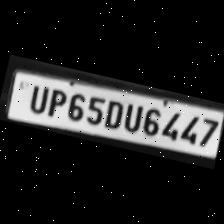4: (174, 110, 202, 146), (158, 107, 184, 142)
5: (82, 92, 108, 128)
6: (62, 88, 89, 123), (138, 102, 164, 138)
7: (194, 114, 220, 150)
D: (100, 96, 127, 132)
P: (42, 84, 70, 120)
U: (22, 80, 51, 116), (120, 99, 145, 134)
